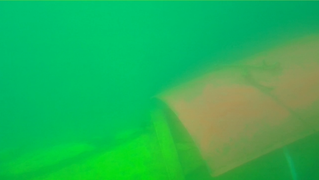leak: (151, 26, 319, 178)
pipe: (1, 109, 319, 180)
